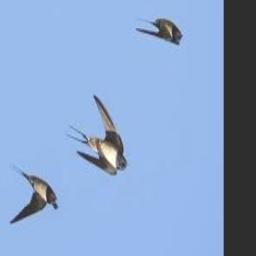Swallow: (65, 96, 128, 177), (9, 164, 57, 224), (135, 18, 182, 46)
